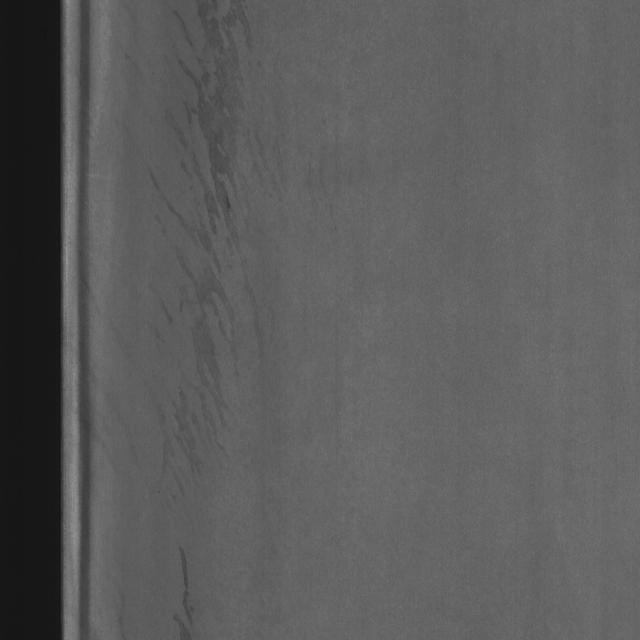water_spot: (156, 5, 269, 495)
